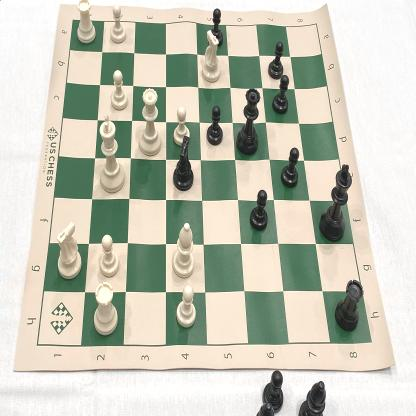black-king: (320, 160, 354, 245)
black-knight: (170, 135, 198, 193)
black-pawn: (247, 186, 272, 235), (204, 100, 226, 148), (280, 146, 301, 190), (266, 37, 286, 82), (208, 5, 226, 50)
black-queen: (235, 85, 262, 158)
black-rook: (333, 276, 365, 334), (107, 66, 129, 114)
white-bishop: (169, 219, 196, 280)
white-king: (95, 112, 127, 198)
white-knight: (52, 218, 84, 282), (197, 24, 224, 86)
white-pawn: (96, 232, 122, 280), (174, 283, 200, 331), (170, 104, 193, 146), (107, 3, 128, 43)
white-queen: (136, 82, 164, 160)
white-rook: (89, 280, 124, 340), (73, 0, 98, 46), (270, 70, 291, 116)
